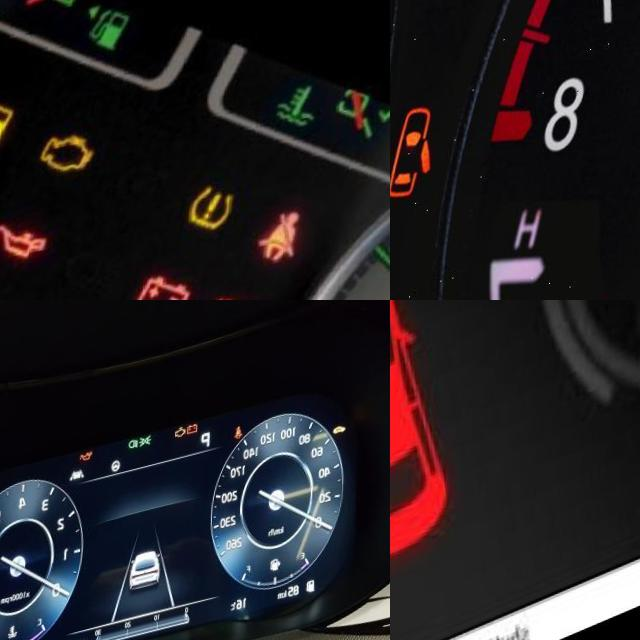LaneCenteringOff: (72, 481, 88, 494)
Low beam: (131, 453, 142, 465)
Low fuel level: (87, 16, 135, 75), (0, 103, 20, 168)
SideLamp: (142, 450, 155, 463)
